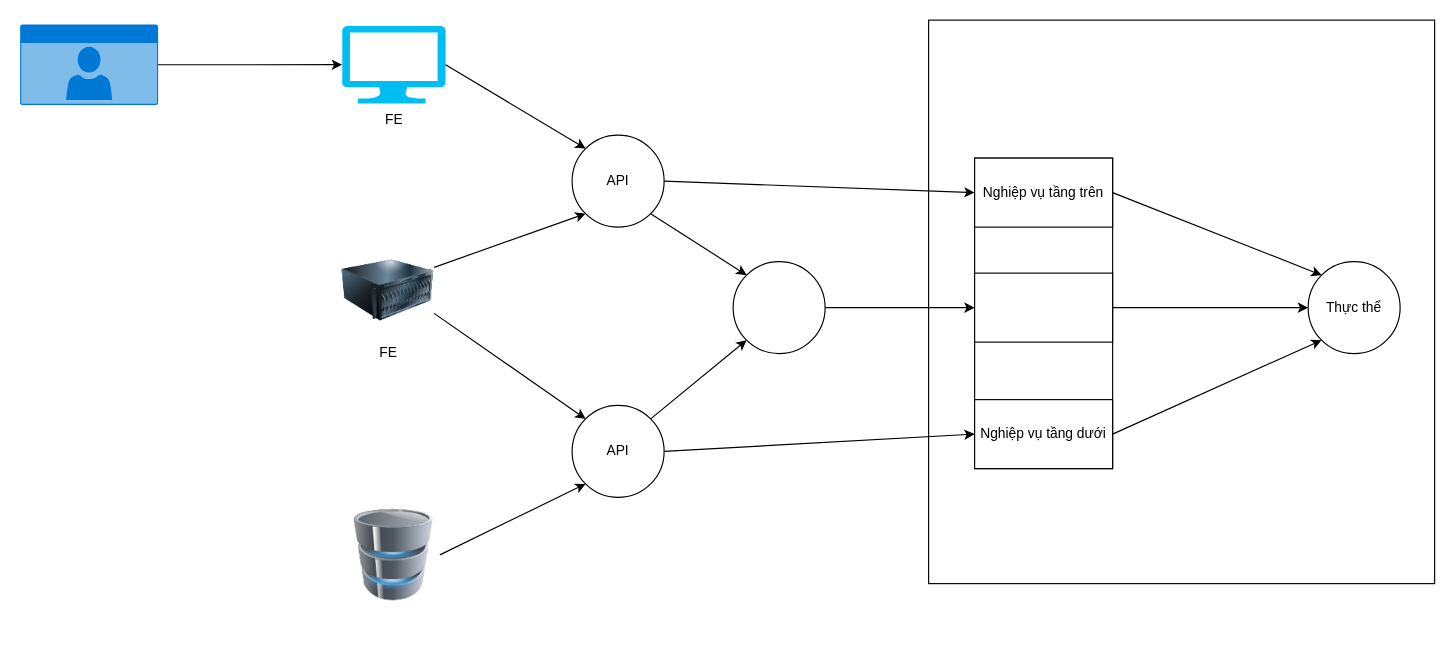
This 1455x645 diagram has some shape labels left out. Here are the shapes that lost their labels. From the top down, the box of each, then its label:
(20, 24, 158, 104): User
(732, 260, 825, 354): Giao điểm
(973, 272, 1113, 342): Nghiệp vụ chung
(347, 508, 439, 600): INFRA
